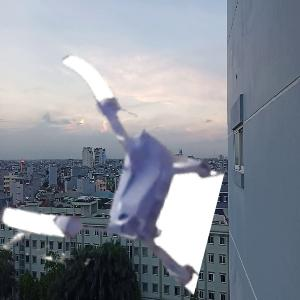drone: (5, 57, 224, 276)
